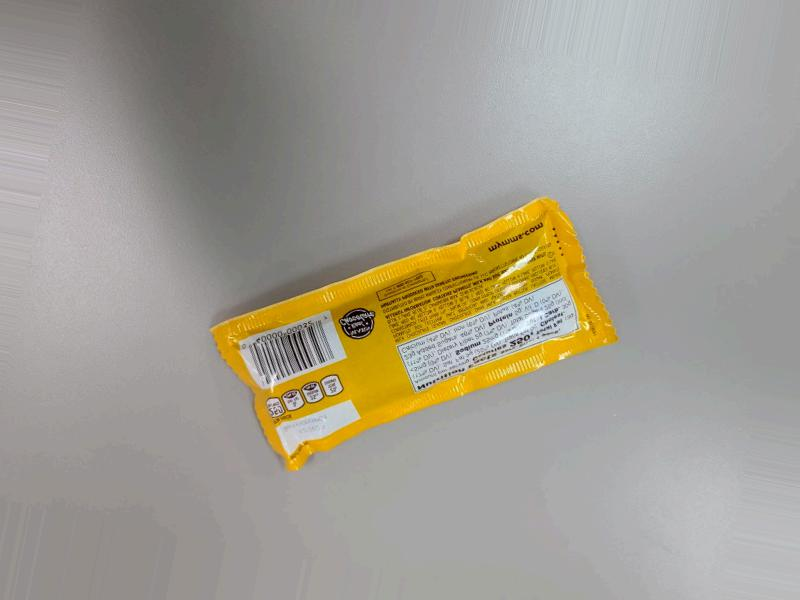m&m: (202, 195, 620, 491)
